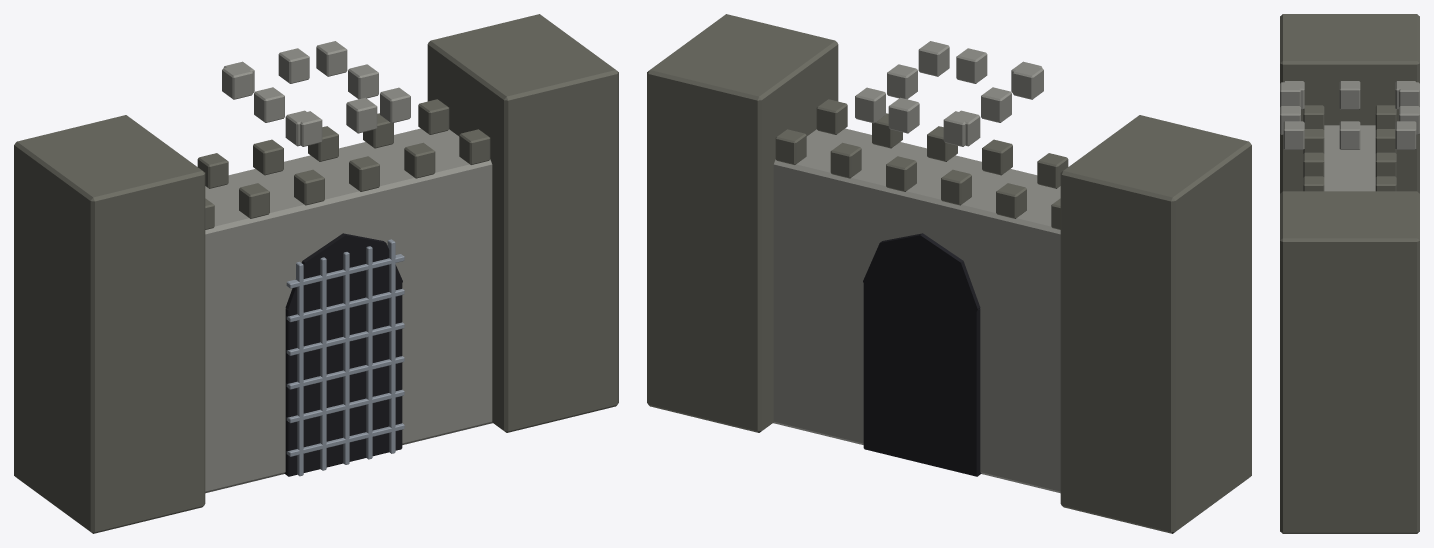
Rendered from CastleGate.fbx.
The picture shows the model from 3 angles, left to right: view 1: azimuth 30°, elevation 25°; view 2: azimuth 150°, elevation 25°; view 3: azimuth 270°, elevation 25°; orthographic projection. The views are drawn at different scales.
Parts seen in each view (by area): view 1: CastleGate; view 2: CastleGate; view 3: CastleGate.
Part boxes in pixels (x1,y1,x2,y2): CastleGate: (14,14,618,533); CastleGate: (647,14,1251,533); CastleGate: (1280,14,1419,533).
Bounding box in the file's own units: 23 × 15 × 6.
1 material, 1 textured.
